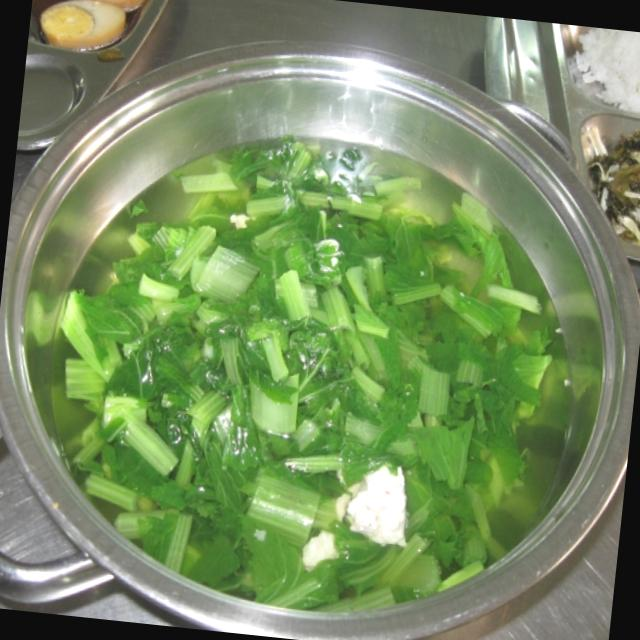canh cai: (65, 136, 572, 610)
